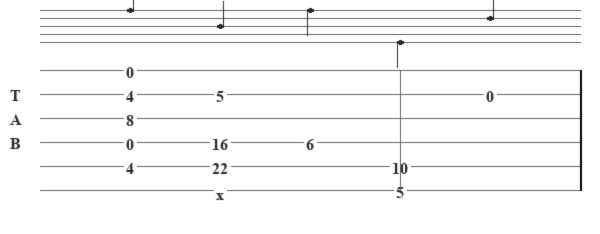0: (126, 63, 138, 78), (126, 135, 138, 150), (486, 87, 498, 102)
10: (392, 159, 412, 174)
16: (212, 135, 232, 150)
22: (212, 159, 232, 174)
4: (126, 87, 138, 102), (126, 159, 138, 174)
5: (216, 87, 228, 102), (396, 183, 408, 198)
6: (306, 135, 318, 150)
8: (126, 111, 138, 126)
x: (216, 185, 228, 196)
